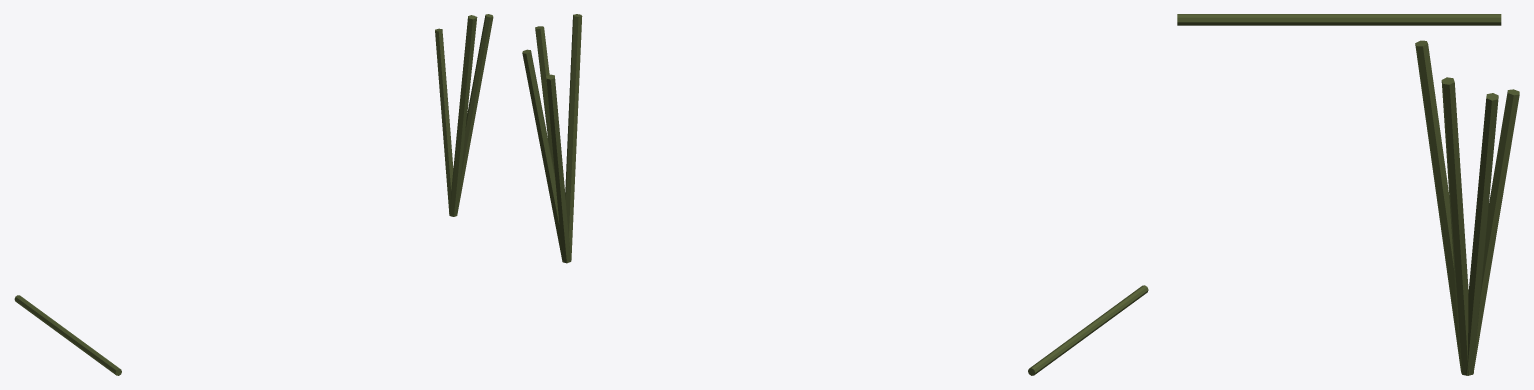
Rendered from ouxiangxie.glb.
3 views of the same model, side by side, from view 1: azimuth 30°, elevation 25°; view 2: azimuth 150°, elevation 25°; view 3: azimuth 270°, elevation 25° (orthographic). The views are drawn at different scales.
Visible parts, largest first — view 1: Mobile_ouxiangxie_plants; view 2: Mobile_ouxiangxie_plants; view 3: Mobile_ouxiangxie_plants.
Boxes of the visible parts, box(x1,y1,x2,y2) form: Mobile_ouxiangxie_plants: box(14, 14, 493, 375); Mobile_ouxiangxie_plants: box(522, 14, 1148, 375); Mobile_ouxiangxie_plants: box(1177, 14, 1519, 375).
Size of the model in its own units: 1.11 by 0.4773 by 0.4437.
